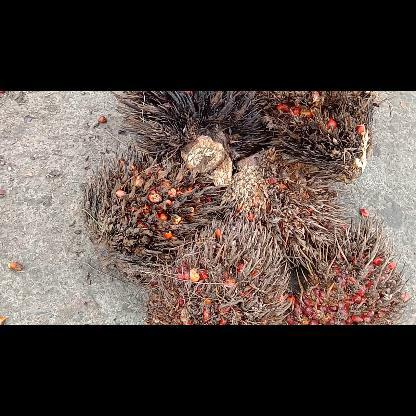Terlalu masak: (82, 144, 222, 282), (146, 214, 290, 324), (221, 146, 353, 264), (114, 91, 262, 185), (284, 216, 408, 324), (256, 90, 376, 182)
